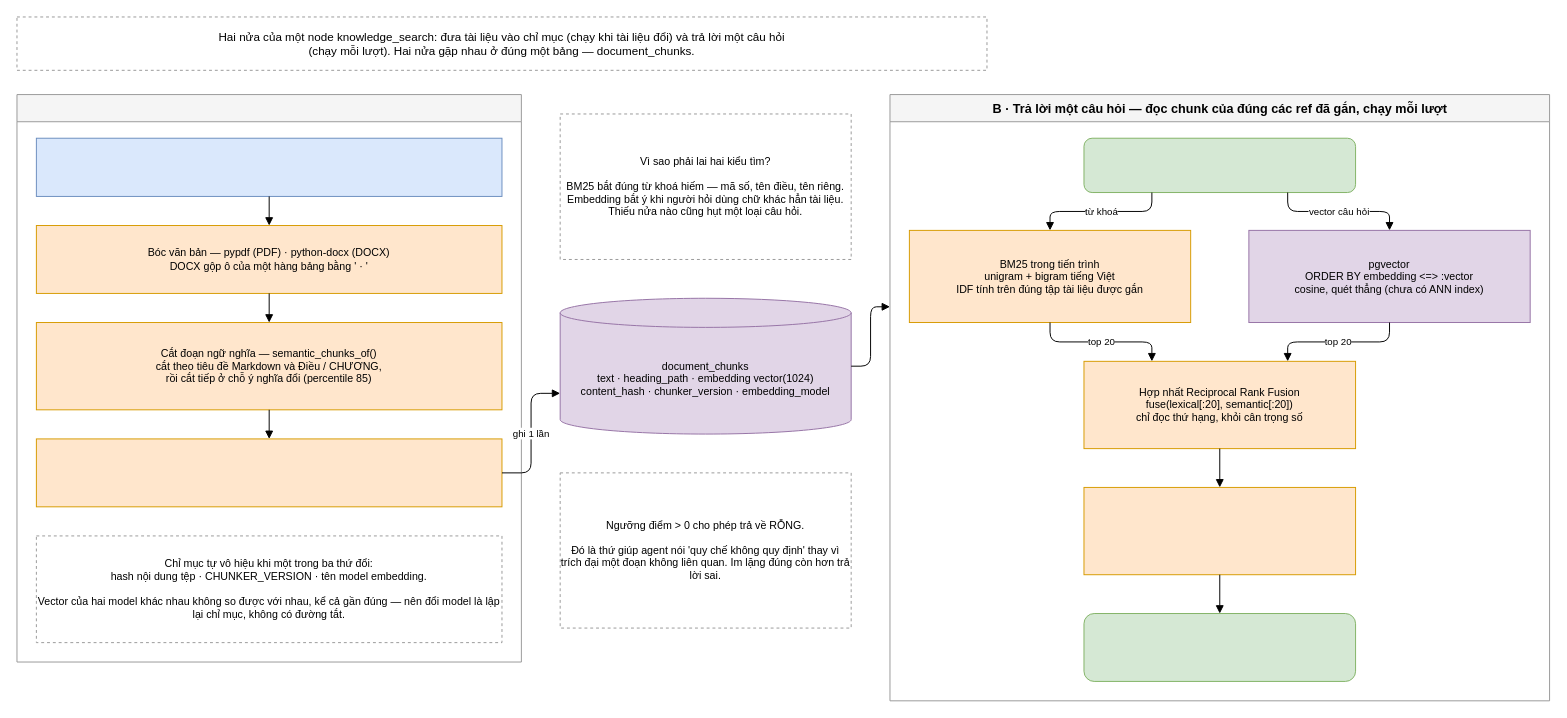
This 1567x718 diagram has some shape labels left out. The shapes that lost their labels are listed below. From the top down, each one's box as (x1, y1, x2, y2) in pixels, then its label:
(35, 137, 502, 196): POST /api/v1/documents PDF · DOCX · MD · TXT
(1083, 137, 1356, 193): Câu hỏi của người dùng _retrieval_query()
(16, 94, 521, 662): A · Đưa tài liệu vào chỉ mục — chạy lại khi tài liệu đổi
(35, 438, 502, 507): Embed từng đoạn text-embedding-3-small · 1024 chiều
(1083, 486, 1356, 575): Lọc lần cuối bỏ đoạn trùng (Jaccard ≥ 0.85) tối đa 2 đoạn mỗi mục · lấy 6 đoạn
(1083, 613, 1356, 681): 6 passage kèm [source_ref] ghép vào prompt của node agent_llm
